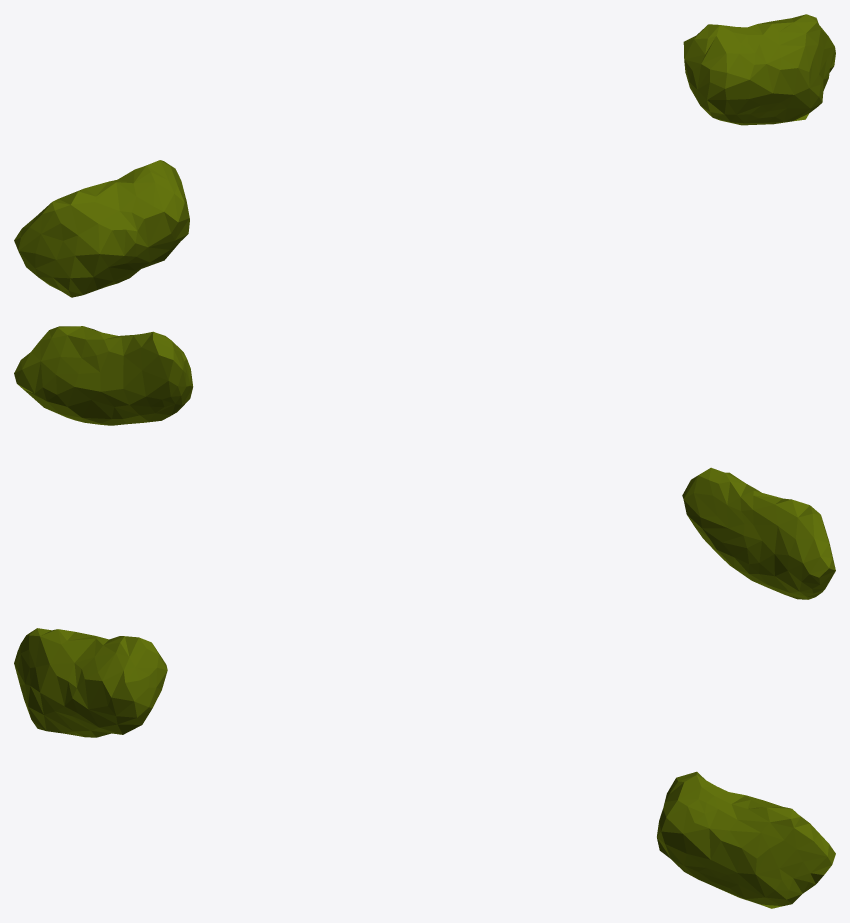
The model's file is 51-TL-temporal area TL-('0.4196', '0.4980', '0.0000').obj.
3 views of the same model, one above another, from view 1: azimuth 30°, elevation 25°; view 2: azimuth 150°, elevation 25°; view 3: azimuth 330°, elevation 25° (orthographic).
Bounding box in the file's own units: 222 × 28.9 × 19.61.
